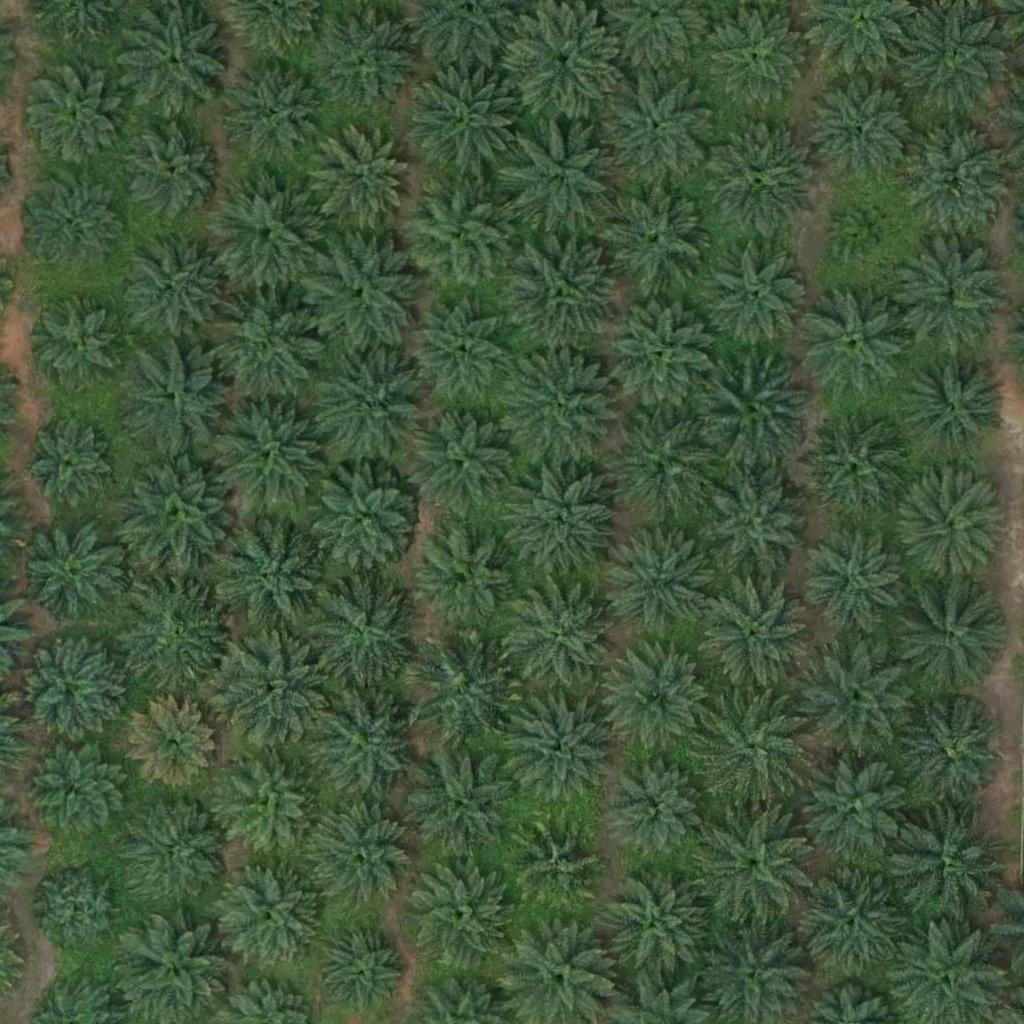Kelapa_Sawit: (900, 120, 1013, 234), (401, 177, 514, 291), (506, 235, 619, 349), (506, 353, 619, 467), (605, 409, 718, 523), (606, 524, 719, 638), (508, 4, 621, 117), (505, 116, 618, 229), (407, 65, 520, 178), (116, 5, 229, 118), (114, 117, 227, 230), (115, 230, 228, 343), (121, 343, 234, 456), (121, 457, 234, 570), (211, 398, 324, 511), (213, 524, 326, 637), (216, 634, 329, 747), (502, 466, 615, 579), (509, 584, 622, 697), (602, 643, 715, 756), (798, 287, 911, 400), (795, 409, 908, 522), (894, 244, 1007, 357), (898, 348, 1011, 461), (898, 471, 1011, 584), (893, 583, 1006, 696), (697, 810, 810, 923), (599, 864, 712, 977), (308, 687, 421, 800), (607, 299, 719, 413), (699, 464, 811, 578), (698, 581, 810, 695), (801, 642, 913, 756), (895, 810, 1007, 924), (704, 125, 816, 238), (607, 72, 719, 185), (310, 6, 422, 119), (122, 579, 234, 692), (207, 176, 319, 289), (210, 292, 322, 405), (309, 236, 421, 349), (315, 348, 427, 461), (309, 460, 421, 573), (304, 573, 416, 686), (408, 403, 520, 516), (405, 633, 517, 746), (601, 181, 713, 294), (699, 357, 811, 470), (693, 690, 805, 803), (796, 869, 908, 982), (402, 859, 514, 972), (798, 754, 910, 867), (502, 687, 614, 800), (406, 746, 518, 859), (313, 125, 413, 226), (226, 63, 326, 164), (27, 299, 127, 400), (20, 522, 120, 623), (417, 526, 517, 627), (709, 246, 809, 347), (310, 801, 410, 902), (221, 752, 321, 853), (28, 738, 128, 839), (130, 798, 230, 899), (814, 78, 914, 178), (707, 9, 807, 109), (24, 69, 124, 169), (24, 173, 124, 273), (20, 638, 120, 738), (412, 304, 512, 404), (804, 529, 904, 629), (903, 702, 1003, 802), (220, 864, 320, 964), (513, 821, 601, 910), (24, 418, 112, 506), (128, 699, 216, 787), (315, 925, 402, 1013), (614, 764, 701, 852), (36, 866, 123, 954), (835, 203, 897, 266)
